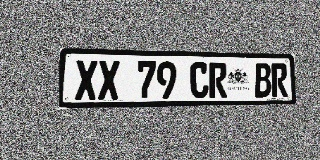7: (136, 61, 156, 99)
9: (157, 61, 177, 99)
B: (254, 63, 271, 97)
C: (190, 62, 209, 98)
R: (209, 62, 227, 98), (271, 63, 288, 97)
X: (75, 60, 97, 100), (98, 60, 120, 100)
